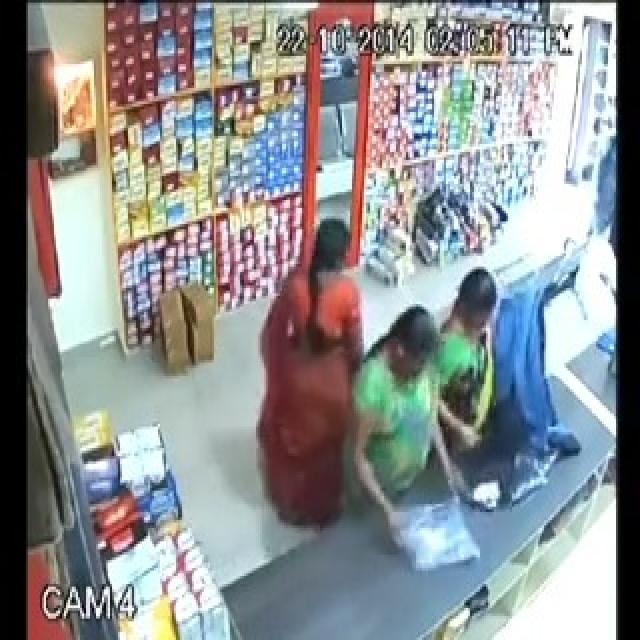Normal: (437, 239, 608, 562), (252, 210, 373, 545), (344, 298, 482, 584)
